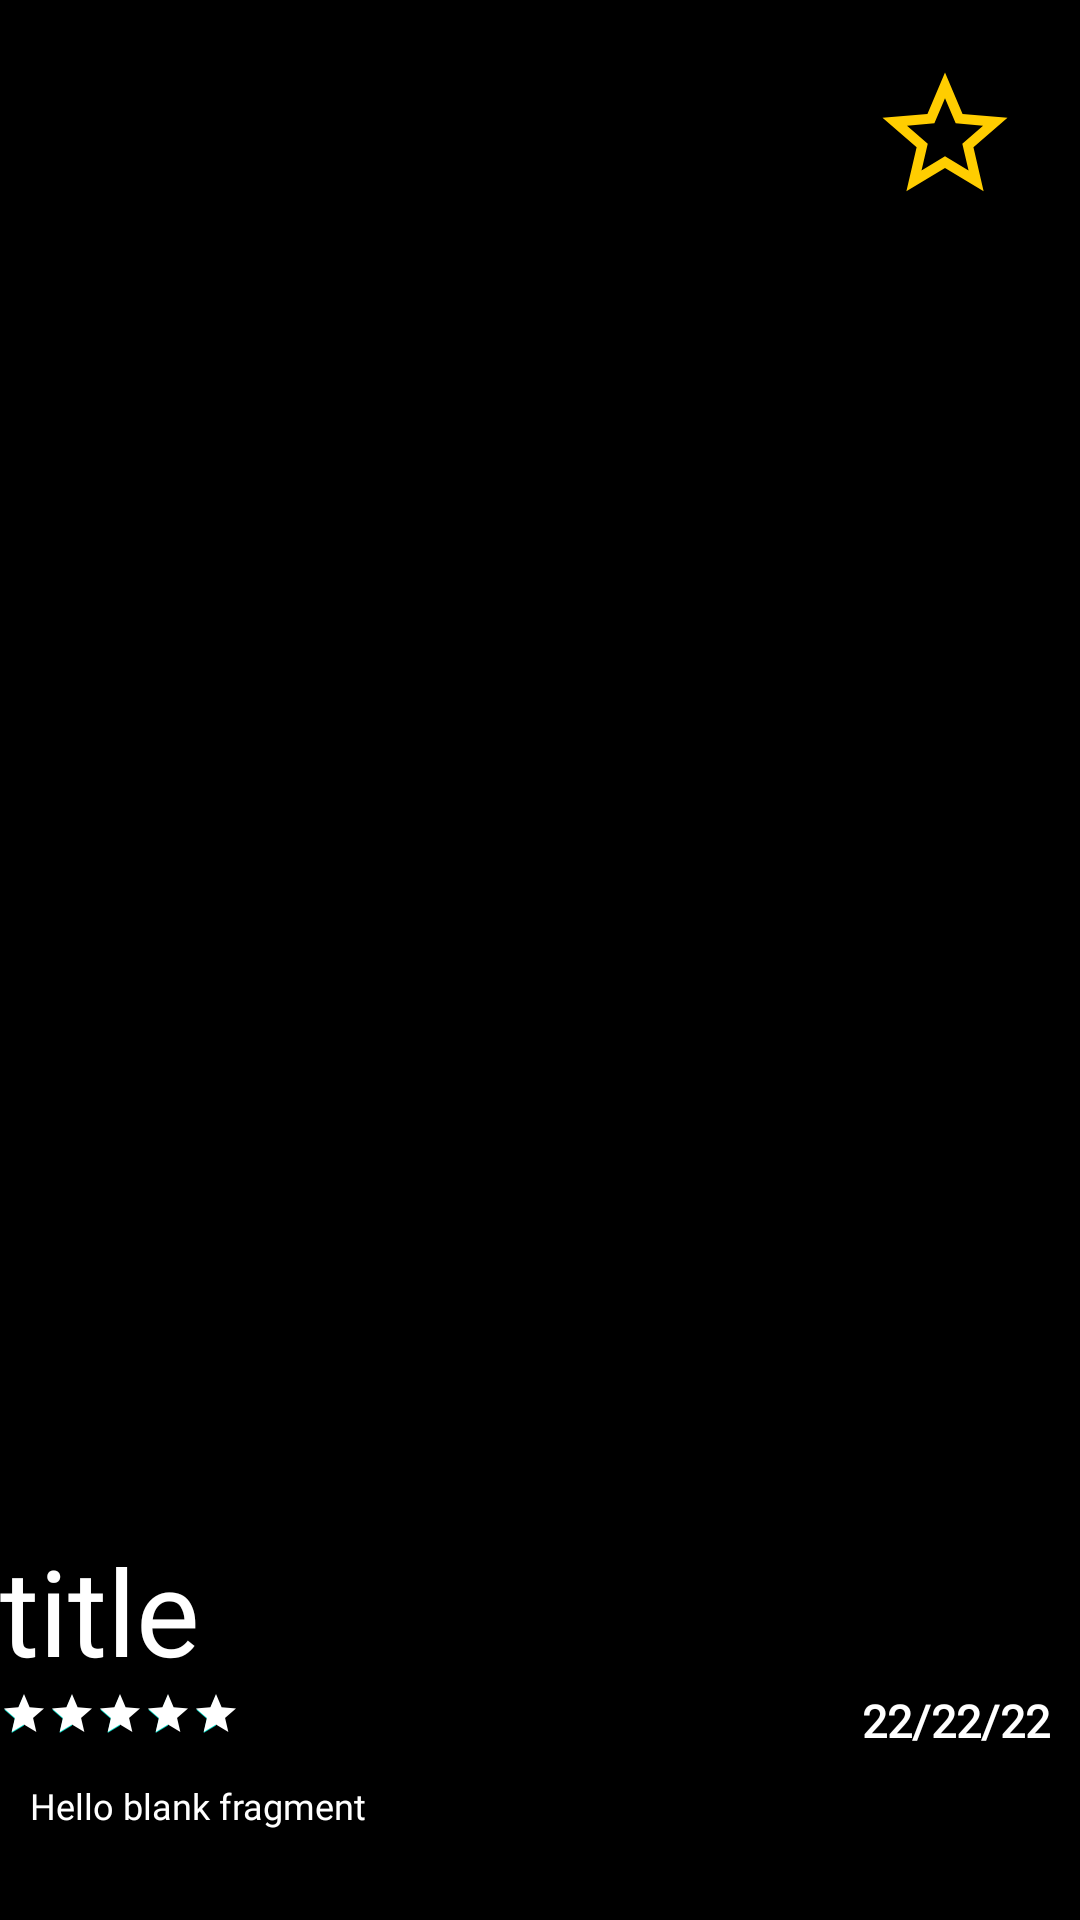

Screen size 1080 × 1920. Icon name, then its box in pixels as (x1, y1, x2, y2):
star border: (883, 73, 1007, 191)
